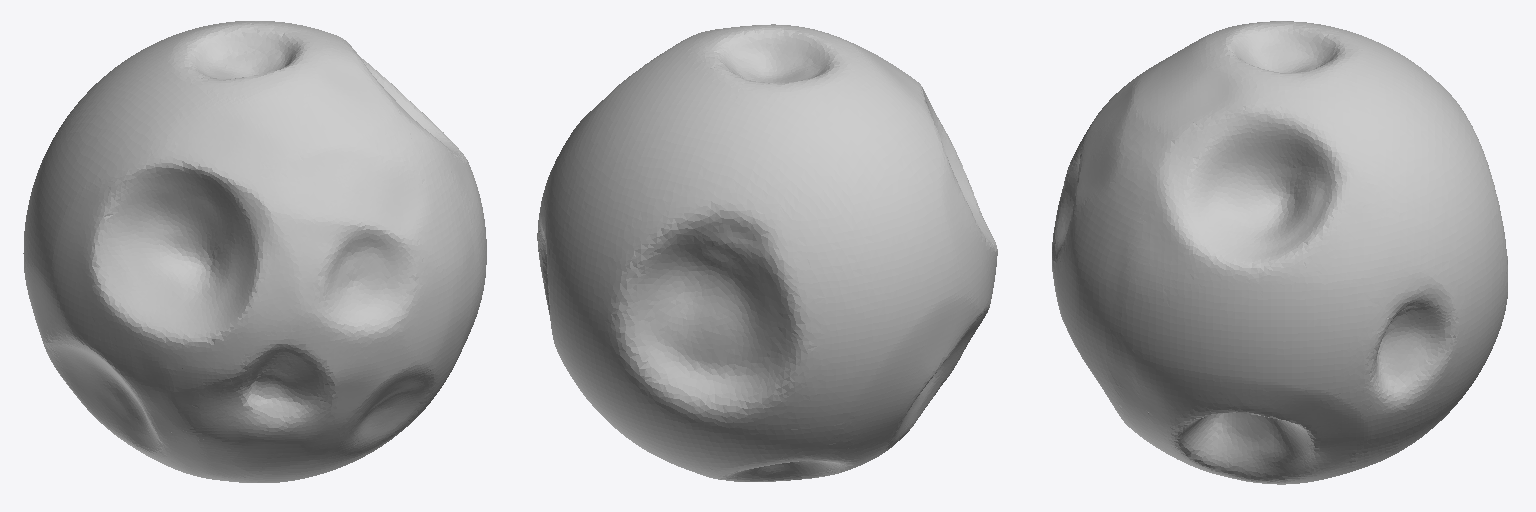
Rendered from Moon model.obj.
3 views of the same model, side by side, from view 1: azimuth 30°, elevation 25°; view 2: azimuth 150°, elevation 25°; view 3: azimuth 270°, elevation 25° (orthographic).
Visible parts, largest first — view 1: ZBrush_defualt_group; view 2: ZBrush_defualt_group; view 3: ZBrush_defualt_group.
Part boxes in pixels (x1,y1,x2,y2): ZBrush_defualt_group: (23,21,486,482); ZBrush_defualt_group: (537,24,997,481); ZBrush_defualt_group: (1052,21,1507,484).
Bounding box in the file's own units: 152 × 150 × 150.